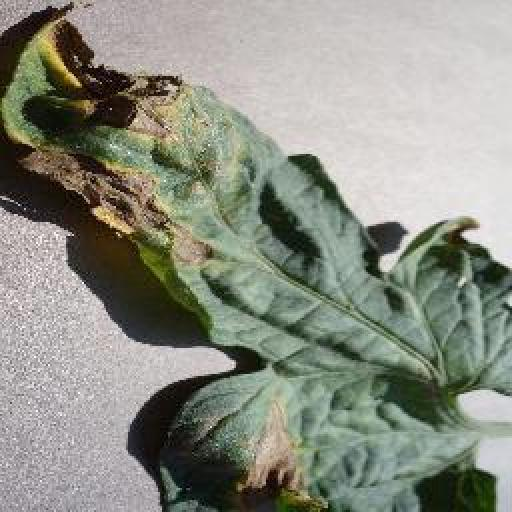disease_tomato: (2, 4, 512, 512)
